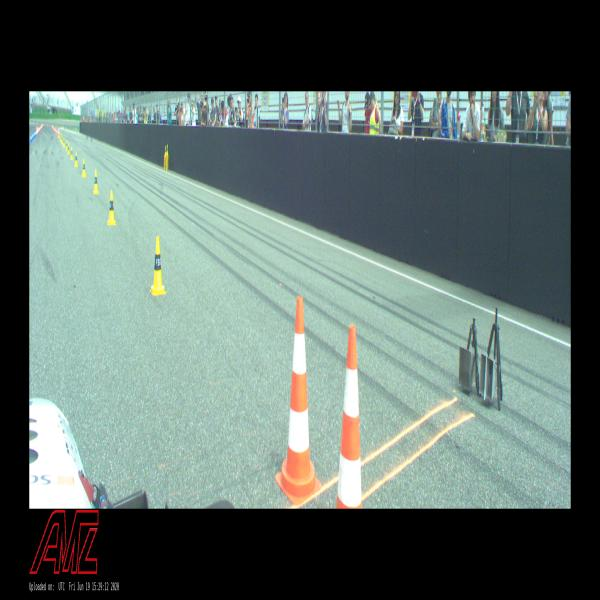large_orange_cone: (275, 295, 322, 505), (335, 325, 364, 508)
yellow_cone: (150, 237, 166, 295), (107, 190, 116, 224), (93, 170, 99, 193), (82, 158, 86, 177), (74, 152, 78, 167), (70, 147, 74, 160), (67, 143, 70, 154), (63, 138, 65, 147), (66, 141, 68, 150)
